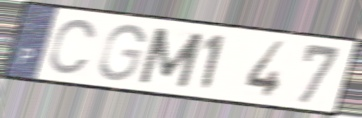1: (199, 33, 226, 93)
4: (240, 39, 288, 101)
7: (298, 41, 344, 107)
C: (46, 17, 99, 77)
G: (96, 22, 147, 83)
M: (135, 25, 207, 90)
